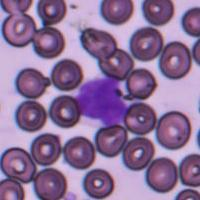M: (73, 74, 128, 127)
